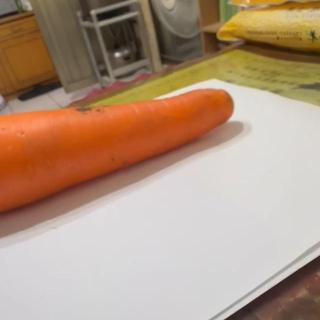carrot: (0, 87, 235, 217)
